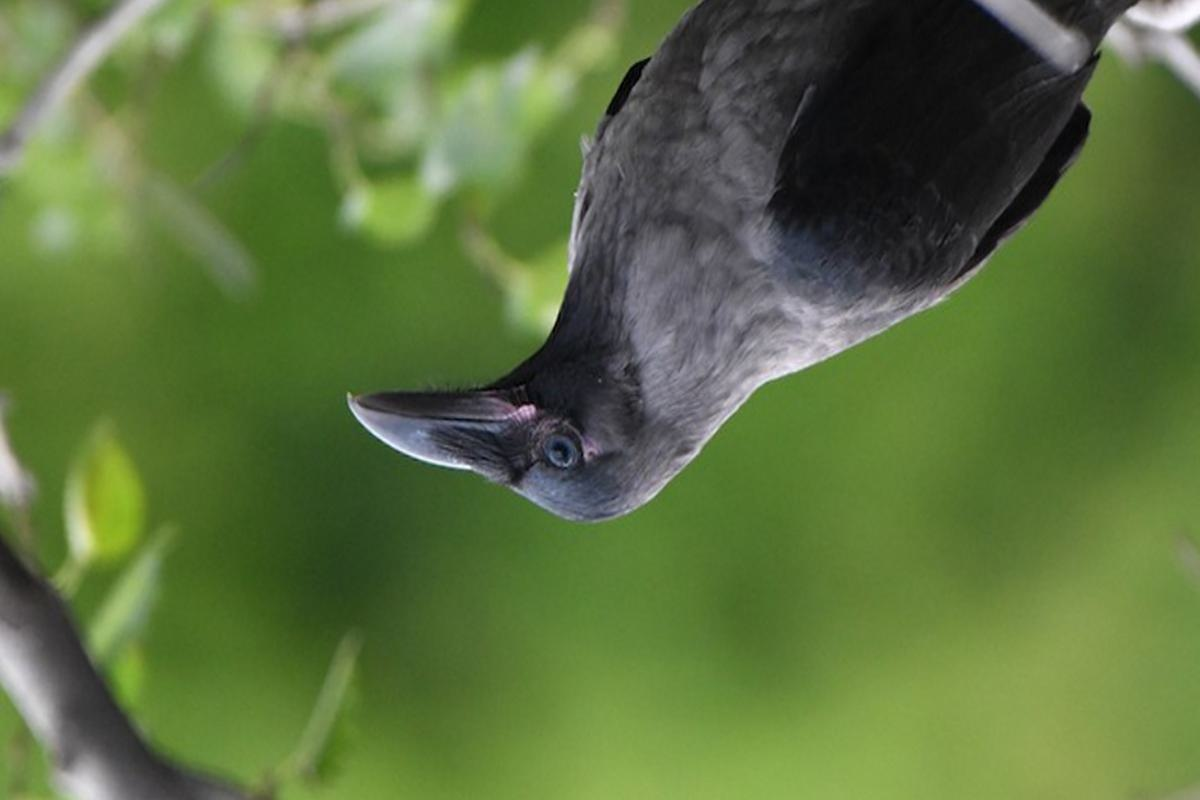crow: (337, 1, 1129, 536)
